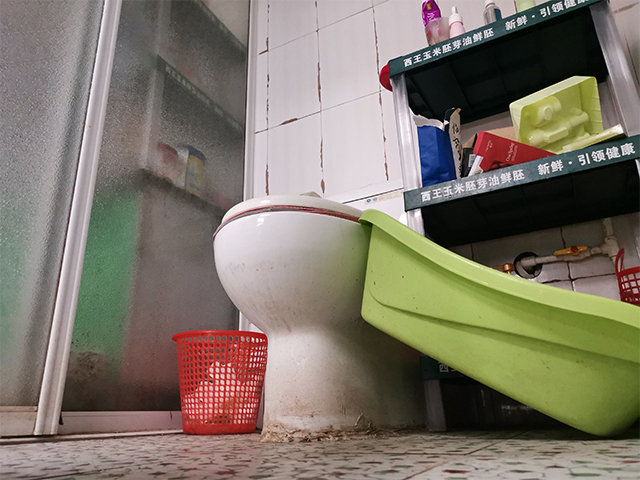closestool: (209, 194, 431, 444)
trashcan: (170, 328, 270, 436)
